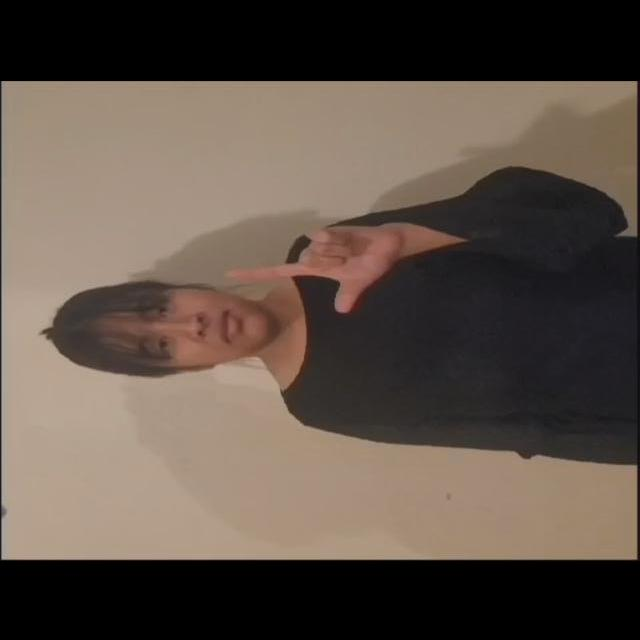L: (214, 212, 404, 321)
